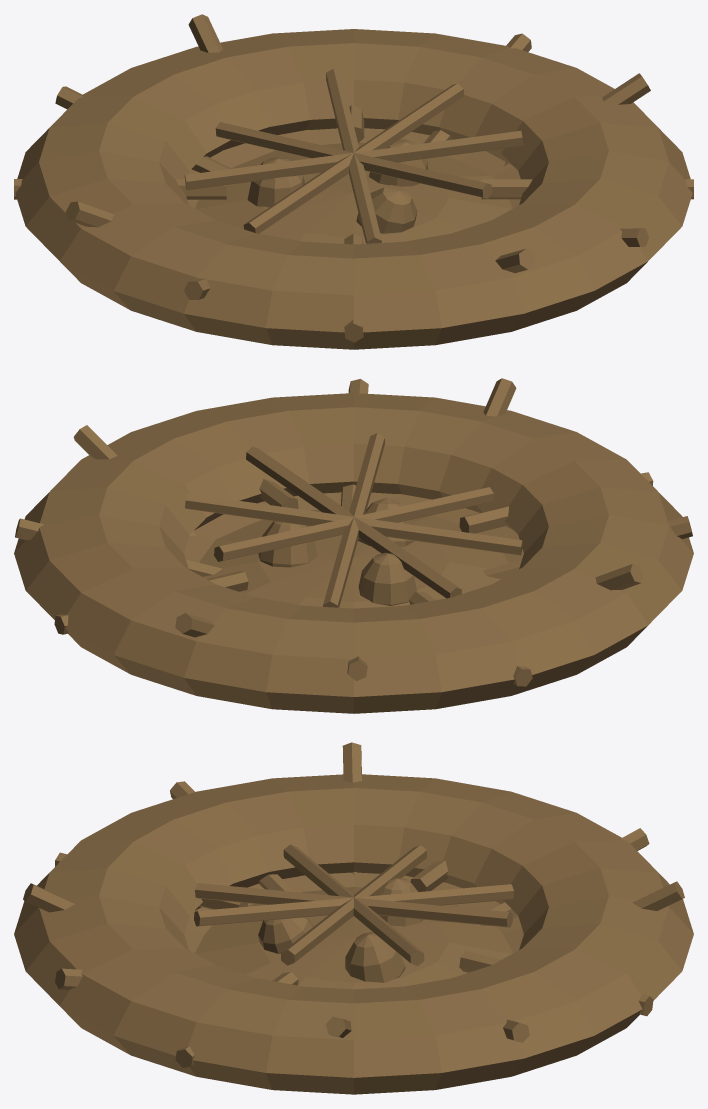
File: bird_nest.fbx
3 renders of one model, top to bottom at view 1: azimuth 30°, elevation 25°; view 2: azimuth 150°, elevation 25°; view 3: azimuth 270°, elevation 25°, orthographic.
Parts seen in each view (by area): view 1: bird_nest; view 2: bird_nest; view 3: bird_nest.
Boxes of the visible parts, left/top/right/bottom form: bird_nest: left=14, top=14, right=693, bottom=349; bird_nest: left=14, top=378, right=693, bottom=713; bird_nest: left=14, top=742, right=693, bottom=1094.
Bounding box in the file's own units: 0.32 × 0.0673 × 0.32.
